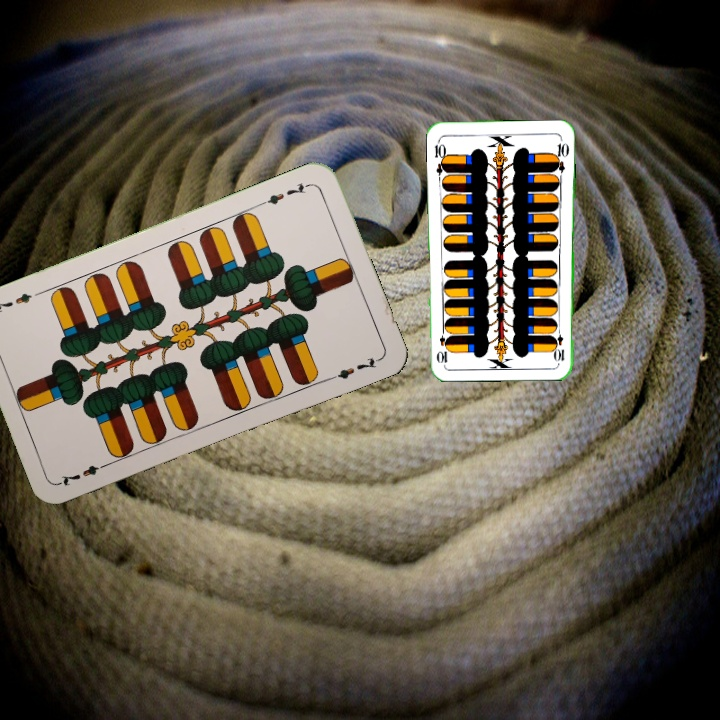E10: (431, 136, 449, 177), (552, 323, 567, 364)
E7: (56, 458, 113, 489), (257, 179, 313, 208)
